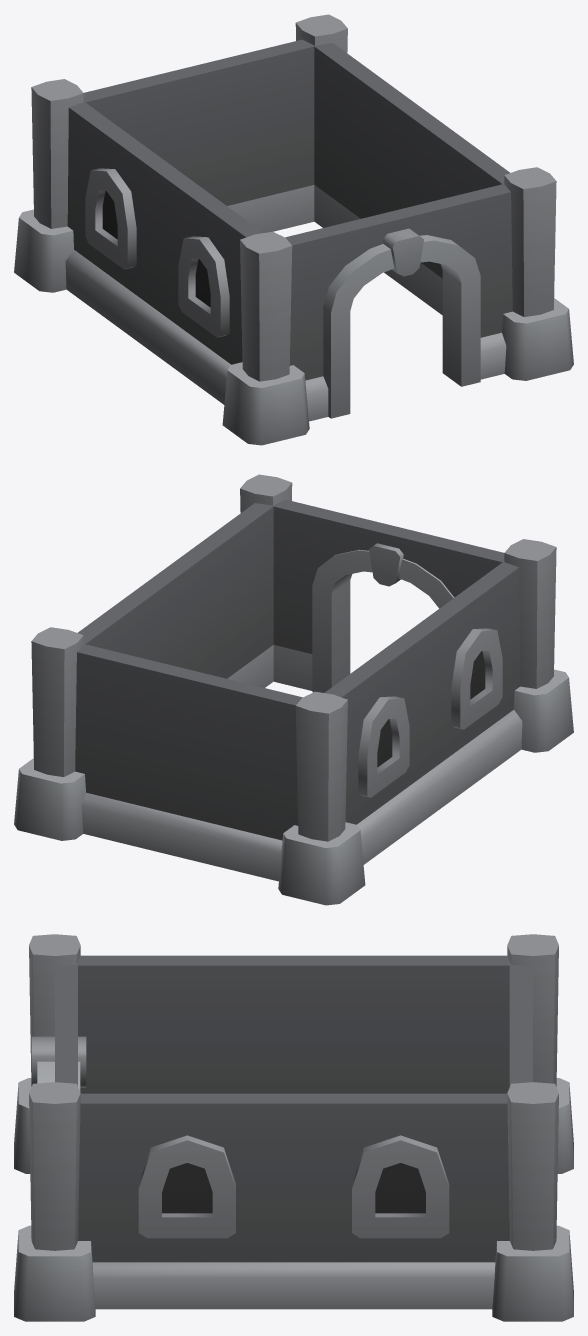
Rendered from crypt-large.glb.
The picture shows the model from 3 angles, top to bottom: view 1: azimuth 30°, elevation 25°; view 2: azimuth 150°, elevation 25°; view 3: azimuth 270°, elevation 25°; orthographic projection. The views are drawn at different scales.
Parts seen in each view (by area): view 1: crypt-large; view 2: crypt-large; view 3: crypt-large.
Boxes of the visible parts, bbox=[...] form: crypt-large: bbox=[14, 14, 573, 445]; crypt-large: bbox=[14, 474, 573, 905]; crypt-large: bbox=[14, 934, 573, 1321].
Bounding box in the file's own units: 4.44 × 2.4 × 5.76.
Materials: 1 (1 with a texture image).
